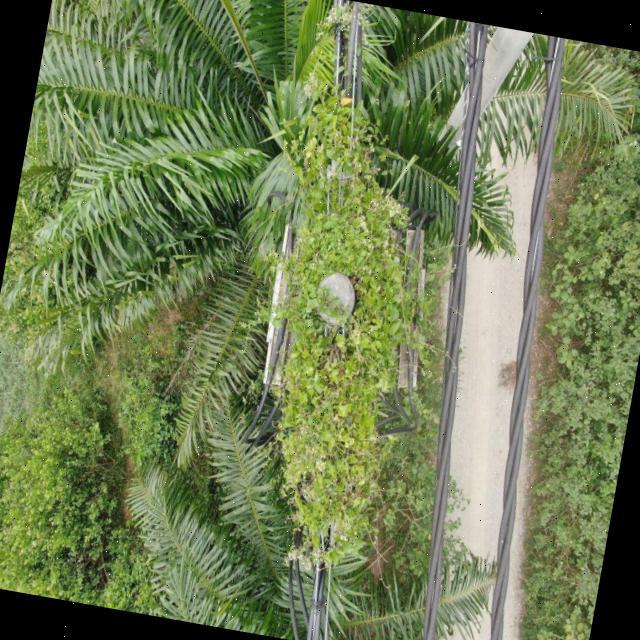critical vegetation: (208, 72, 448, 569)
